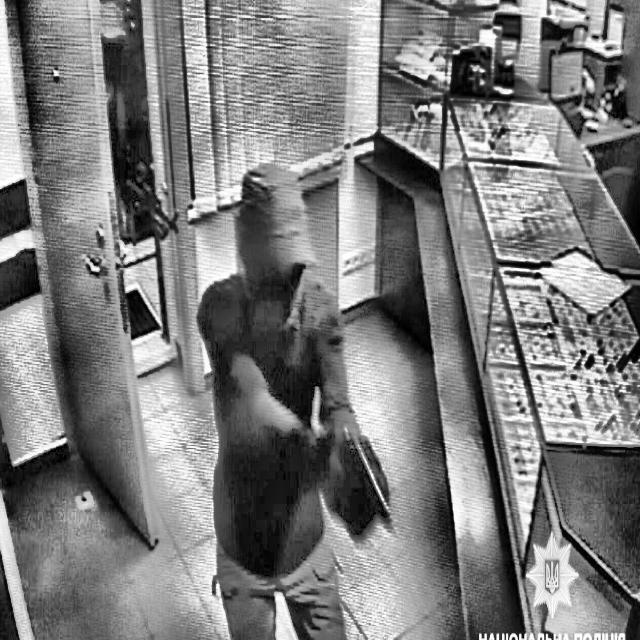robbery: (198, 151, 402, 638)
